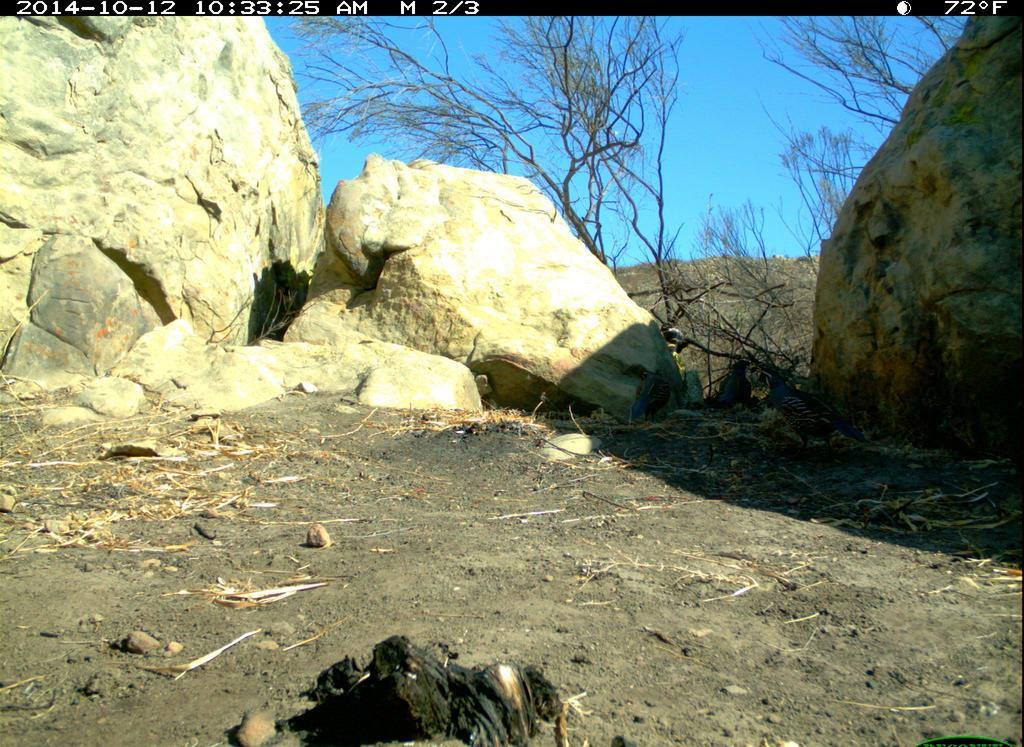bird: (757, 355, 874, 456), (628, 359, 681, 423), (714, 357, 756, 415)
